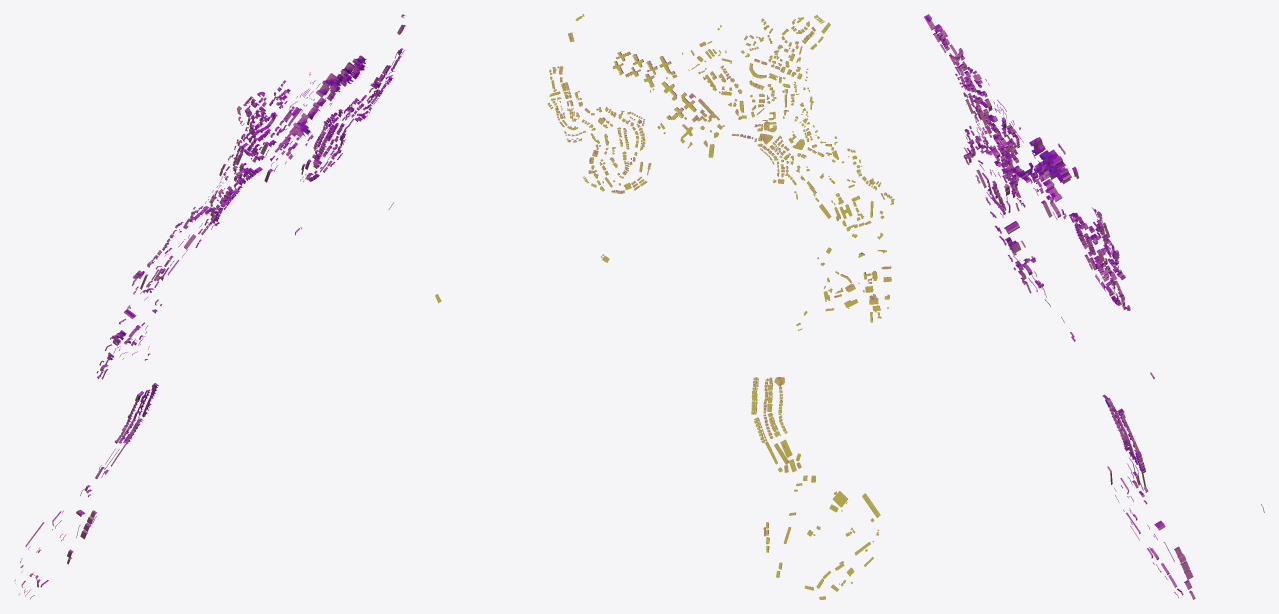
3 renders of one model, left to right at view 1: azimuth 30°, elevation 25°; view 2: azimuth 150°, elevation 25°; view 3: azimuth 270°, elevation 25°, orthographic. The views are drawn at different scales.
Parts seen in each view (by area): view 1: geometry_0; view 2: geometry_0; view 3: geometry_0.
Boxes of the visible parts, x1,y1,x2,y2 form: geometry_0: (14, 14, 405, 599); geometry_0: (435, 14, 894, 599); geometry_0: (924, 14, 1264, 599).
Size of the model in its own units: 2092 by 2530 by 1209.
